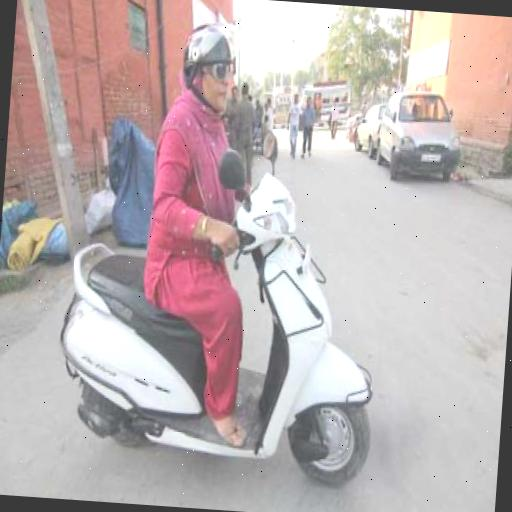helmet: (126, 4, 406, 473)
